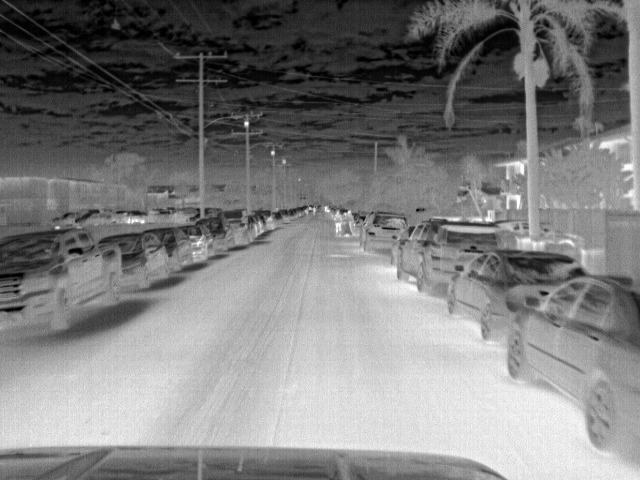car: (506, 271, 638, 455), (0, 228, 125, 336), (447, 248, 588, 342), (397, 218, 517, 296), (92, 232, 173, 287), (143, 226, 195, 269), (358, 211, 411, 252), (195, 218, 235, 255), (538, 220, 585, 250), (179, 223, 214, 263), (219, 209, 252, 245), (489, 220, 529, 246), (73, 211, 112, 224), (257, 207, 278, 230), (49, 210, 80, 224)
person: (332, 209, 345, 238)
